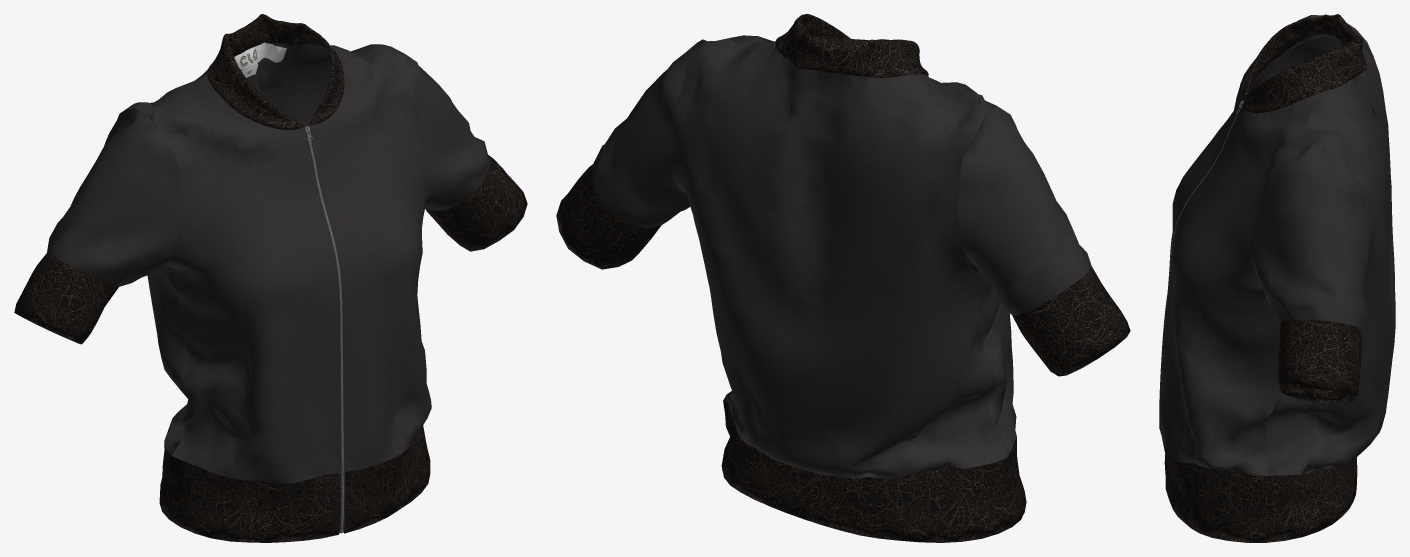
The model's file is testgltf.glb.
3 views of the same model, side by side, from view 1: azimuth 30°, elevation 25°; view 2: azimuth 150°, elevation 25°; view 3: azimuth 270°, elevation 25° (orthographic). The views are drawn at different scales.
Parts seen in each view (by area): view 1: Cloth, BindedTrim_611279, BindedTrim_611516; view 2: Cloth; view 3: Cloth.
Boxes of the visible parts, left/top/right/bottom form: Cloth: left=14, top=14, right=527, bottom=542; BindedTrim_611279: left=307, top=133, right=343, bottom=528; BindedTrim_611516: left=309, top=137, right=344, bottom=527; Cloth: left=556, top=14, right=1130, bottom=542; Cloth: left=1159, top=14, right=1395, bottom=542.
Bounding box in the file's own units: 0.6315 × 0.5389 × 0.2495.
Materials: 18 (17 with a texture image).
